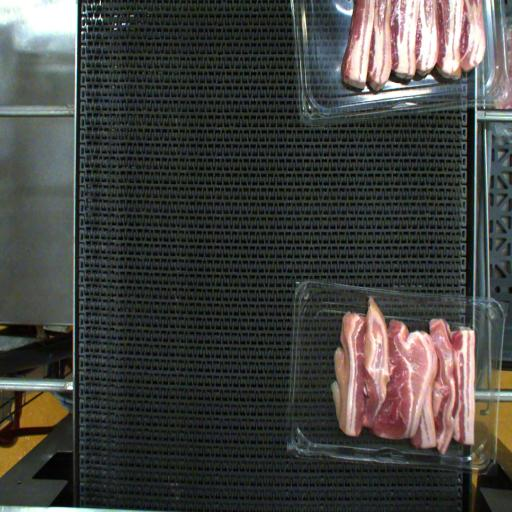packaging-error: (362, 272, 385, 327)
